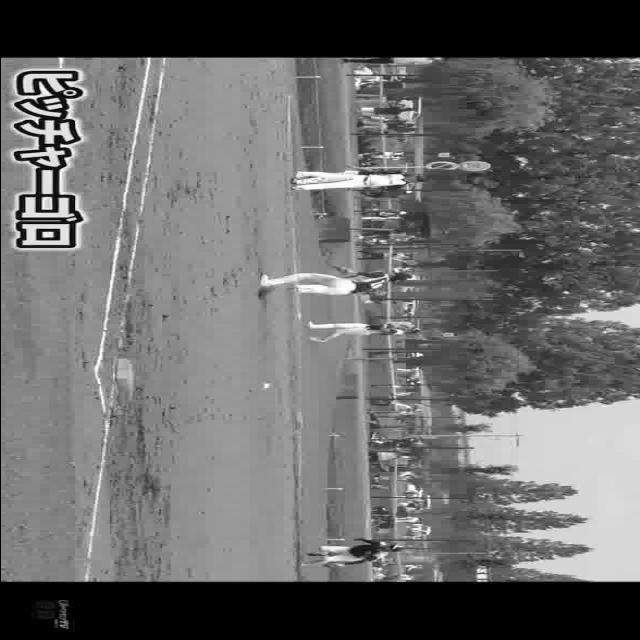base: (108, 354, 136, 406)
baseball_glove: (328, 264, 360, 277)
shoe: (258, 270, 277, 292), (282, 285, 302, 295)
